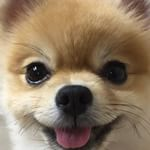puppy: (3, 4, 148, 149)
